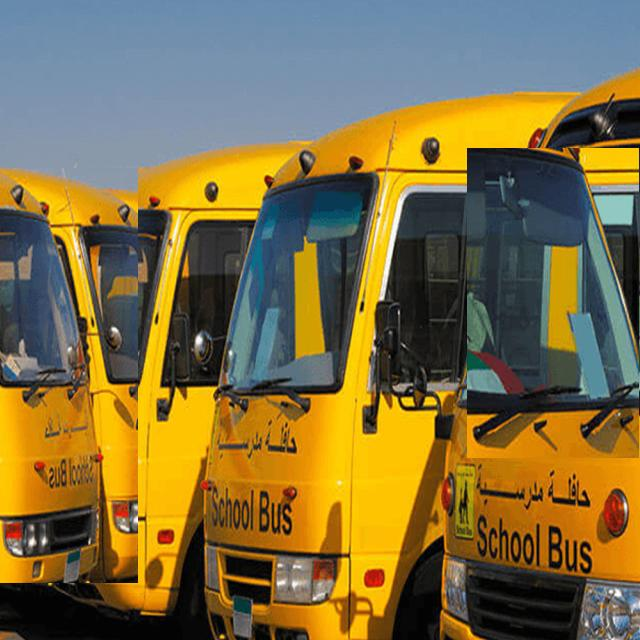bus: (204, 94, 565, 639), (36, 142, 304, 632), (440, 70, 640, 639), (0, 169, 138, 583), (468, 149, 639, 458)
